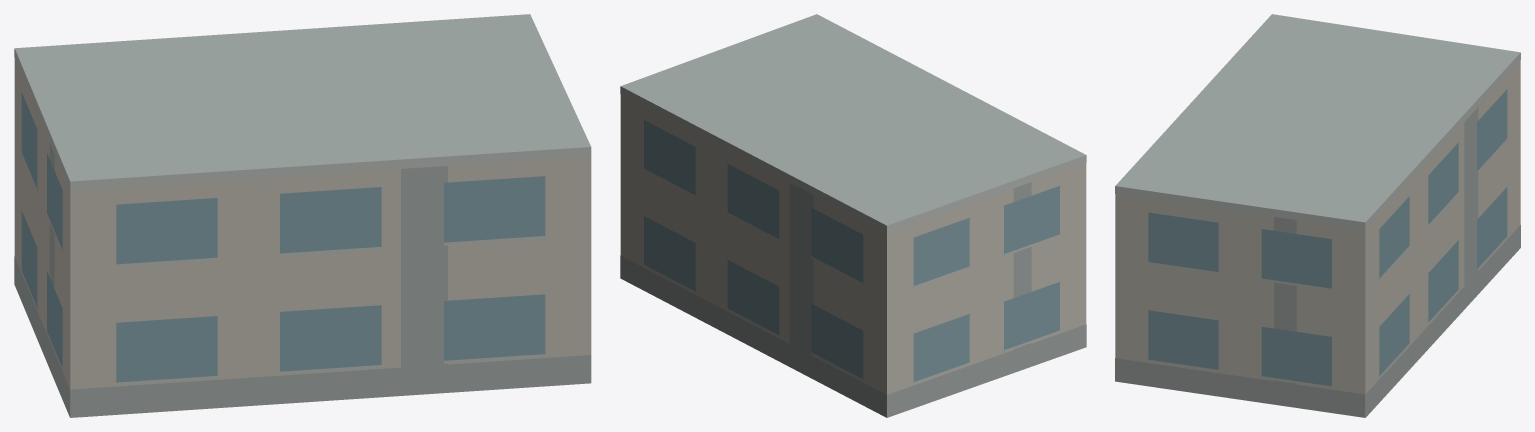
Rendered from survey-upis-32528319.glb.
The picture shows the model from 3 angles, left to right: view 1: azimuth 30°, elevation 25°; view 2: azimuth 150°, elevation 25°; view 3: azimuth 270°, elevation 25°; orthographic projection. The views are drawn at different scales.
Parts seen in each view (by area): view 1: survey-upis-32528319.tmp; view 2: survey-upis-32528319.tmp; view 3: survey-upis-32528319.tmp.
Boxes of the visible parts, <box> form: survey-upis-32528319.tmp: <box>14,14,591,417</box>; survey-upis-32528319.tmp: <box>620,14,1086,417</box>; survey-upis-32528319.tmp: <box>1115,14,1520,417</box>.
Size of the model in its own units: 13.96 by 6.1 by 11.49.
